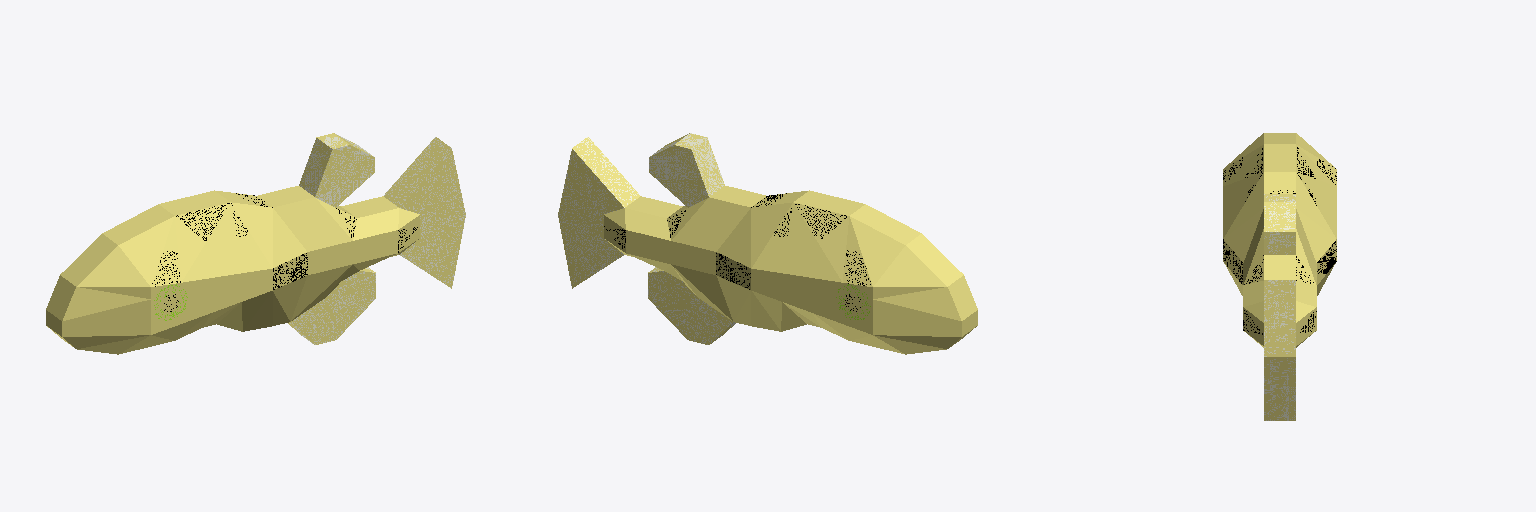
The model's file is dwarfpuffer.obj.
3 views of the same model, side by side, from view 1: azimuth 30°, elevation 25°; view 2: azimuth 150°, elevation 25°; view 3: azimuth 270°, elevation 25° (orthographic).
Parts seen in each view (by area): view 1: SketchUp; view 2: SketchUp; view 3: SketchUp.
Part boxes in pixels (bbox=[...]): SketchUp: bbox=[46, 133, 465, 354]; SketchUp: bbox=[558, 133, 977, 354]; SketchUp: bbox=[1223, 133, 1336, 420].
Size of the model in its own units: 2.3 by 1.04 by 0.56.